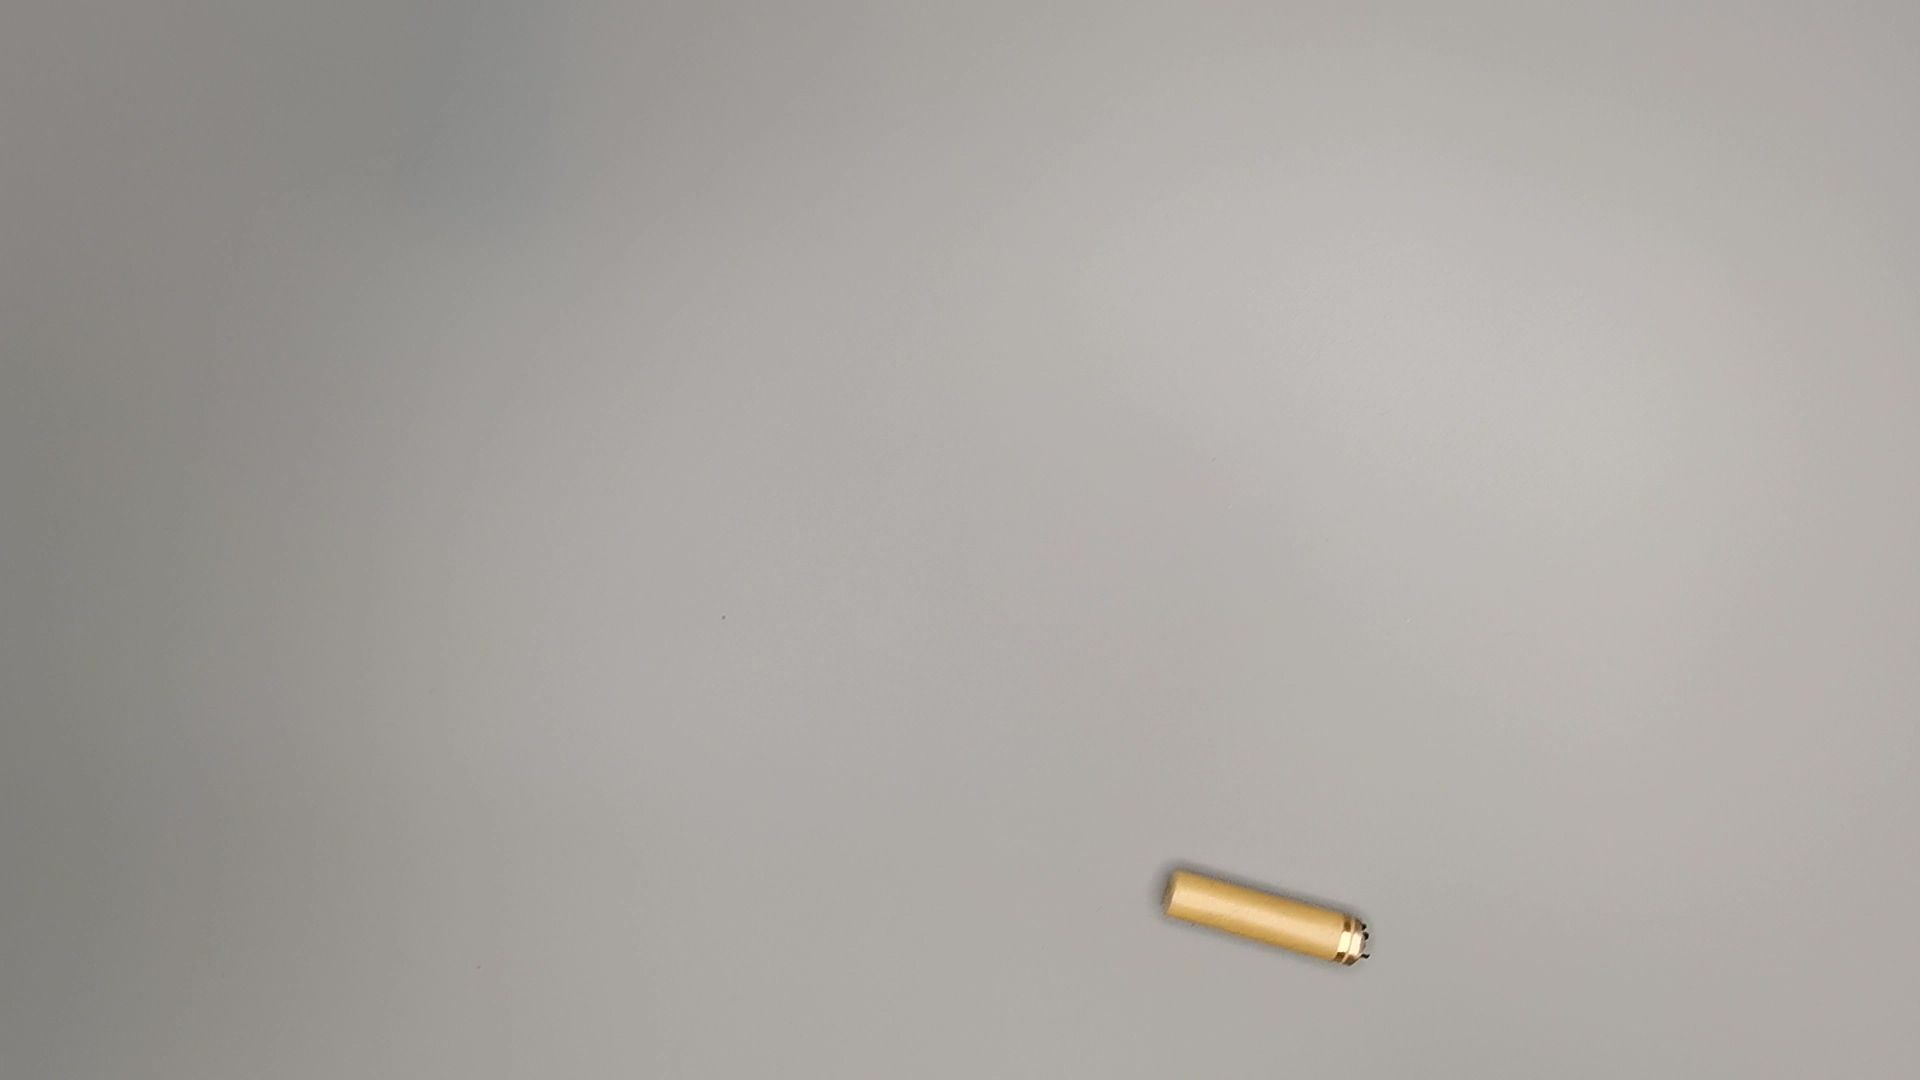cigarette: (1158, 866, 1389, 975)
